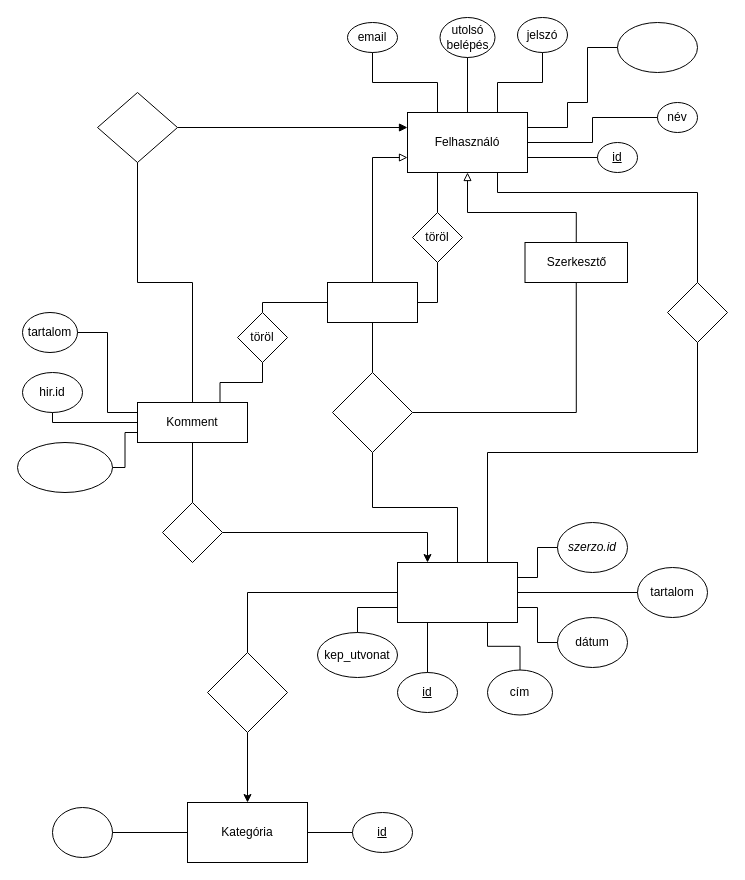
Image size: 745x880. Some labels were removed from this diagram. Here are the shapes that lost their labels. From the top down, the centre of each, then its label:
At point (657, 47): "regisztráció dátum".
At point (137, 127): "ír".
At point (372, 302): "Admin".
At point (697, 312): "olvas".
At point (372, 412): "módosít".
At point (64, 467): "felhasználó.id".
At point (192, 532): "tartozik".
At point (457, 592): "Hír".
At point (247, 692): "kategóriája".
At point (82, 832): "kat.neve".
